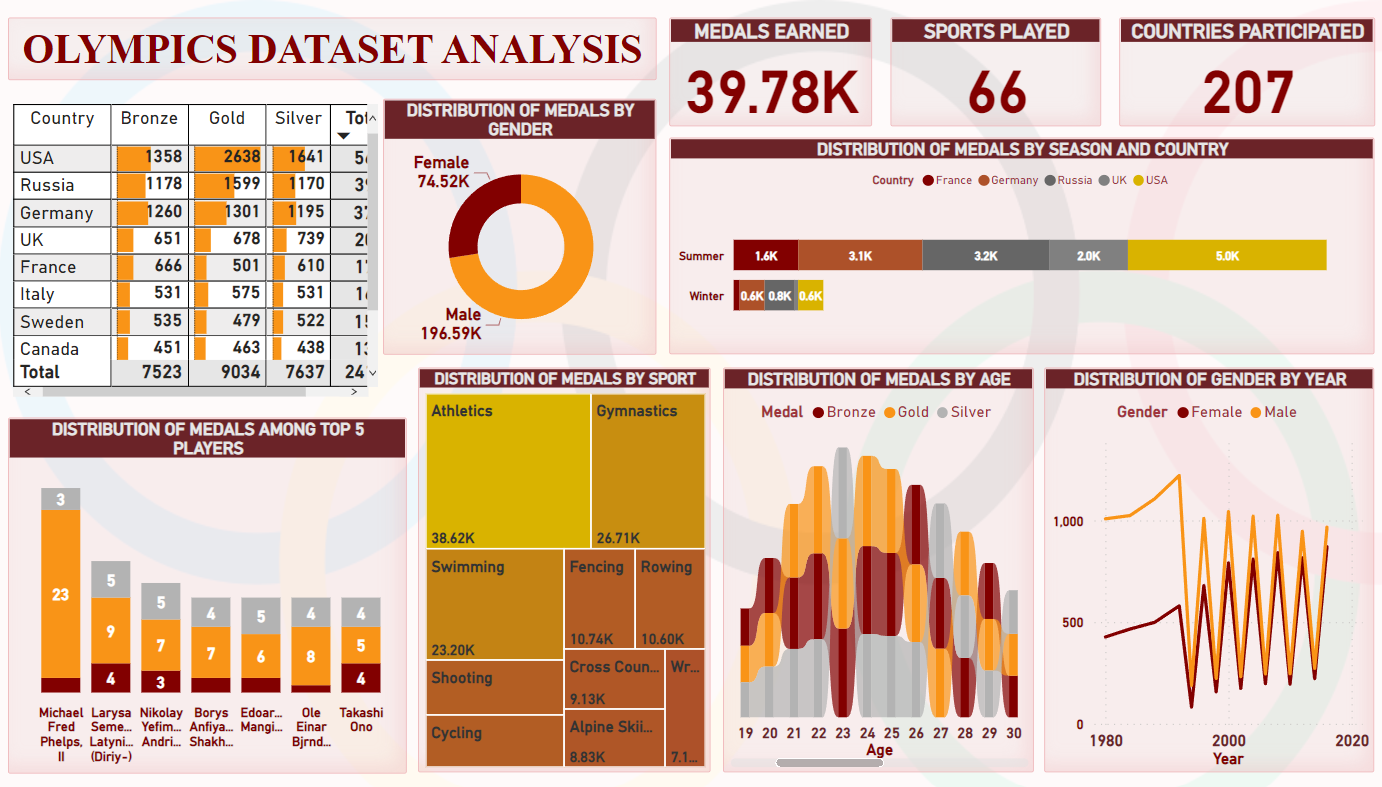

The page's visual inventory and layout, read from the dashboard file:
{"tool":"powerbi","page":{"name":"Report","canvas":[1280,720],"ordinal":0},"visuals":[{"type":"textbox","box":[9.6,16.5,596.1,57.7],"z":0},{"type":"card","title":"MEDALS EARNED","fields":{"Values":["Olympics Final.Medal"]},"box":[616.7,16.5,186.8,100.3],"z":1},{"type":"card","title":"SPORTS PLAYED","fields":{"Values":["Olympics Final.Sport"]},"box":[819.9,16.5,193.6,100.3],"z":2},{"type":"card","title":"COUNTRIES PARTICIPATED","fields":{"Values":["Olympics Final.Country"]},"box":[1030,16.5,234.8,100.3],"z":3},{"type":"pivotTable","fields":{"Rows":["Olympics Final.Country"],"Columns":["Olympics Final.Medal"],"Values":["Olympics Final.Medal"]},"box":[9.6,90.6,344.7,278.8],"z":4},{"type":"donutChart","title":"DISTRIBUTION OF MEDALS BY GENDER","fields":{"Category":["Olympics Final.Gender"],"Y":["Olympics Final.Medal"]},"box":[354.3,90.6,251.3,234.8],"z":5},{"type":"barChart","title":"DISTRIBUTION OF MEDALS BY SEASON AND COUNTRY","fields":{"Y":["Olympics Final.Medal"],"Category":["Olympics Final.Season"],"Series":["Olympics Final.Country"]},"box":[616.7,126.4,648.2,199.1],"z":6},{"type":"ribbonChart","title":"DISTRIBUTION OF MEDALS BY AGE","fields":{"Y":["Olympics Final.Medal"],"Category":["Olympics Final.Age"],"Series":["Olympics Final.Medal"]},"box":[666.1,337.9,285.7,372.2],"z":7},{"type":"lineChart","title":"DISTRIBUTION OF GENDER BY YEAR","fields":{"Category":["Olympics Final.Year"],"Y":["Olympics Final.Name"],"Series":["Olympics Final.Gender"]},"box":[961.4,337.9,303.5,372.2],"z":8},{"type":"treemap","title":"DISTRIBUTION OF MEDALS BY SPORT","fields":{"Values":["Olympics Final.Medal"],"Group":["Olympics Final.Sport"]},"box":[385.9,337.9,269.2,372.2],"z":9},{"type":"columnChart","title":"DISTRIBUTION OF MEDALS AMONG TOP 5 PLAYERS","fields":{"Y":["Olympics Final.Medal"],"Category":["Olympics Final.Name"],"Series":["Olympics Final.Medal"]},"box":[9.6,383.2,366.7,326.9],"z":10}]}

Visuals, with their boxes in screenshot pixels (x1, y1, x2, y2), scaled from the page's 1280x720 canvas onto the 1382x787 screenshot:
textbox: [10,18,654,81]
"MEDALS EARNED" card: [666,18,868,128]
"SPORTS PLAYED" card: [885,18,1094,128]
"COUNTRIES PARTICIPATED" card: [1112,18,1366,128]
pivotTable - Olympics Final.Country x Olympics Final.Medal: [10,99,383,404]
"DISTRIBUTION OF MEDALS BY GENDER" donutChart: [383,99,654,356]
"DISTRIBUTION OF MEDALS BY SEASON AND COUNTRY" barChart: [666,138,1366,356]
"DISTRIBUTION OF MEDALS BY AGE" ribbonChart: [719,369,1028,776]
"DISTRIBUTION OF GENDER BY YEAR" lineChart: [1038,369,1366,776]
"DISTRIBUTION OF MEDALS BY SPORT" treemap: [417,369,707,776]
"DISTRIBUTION OF MEDALS AMONG TOP 5 PLAYERS" columnChart: [10,419,406,776]
